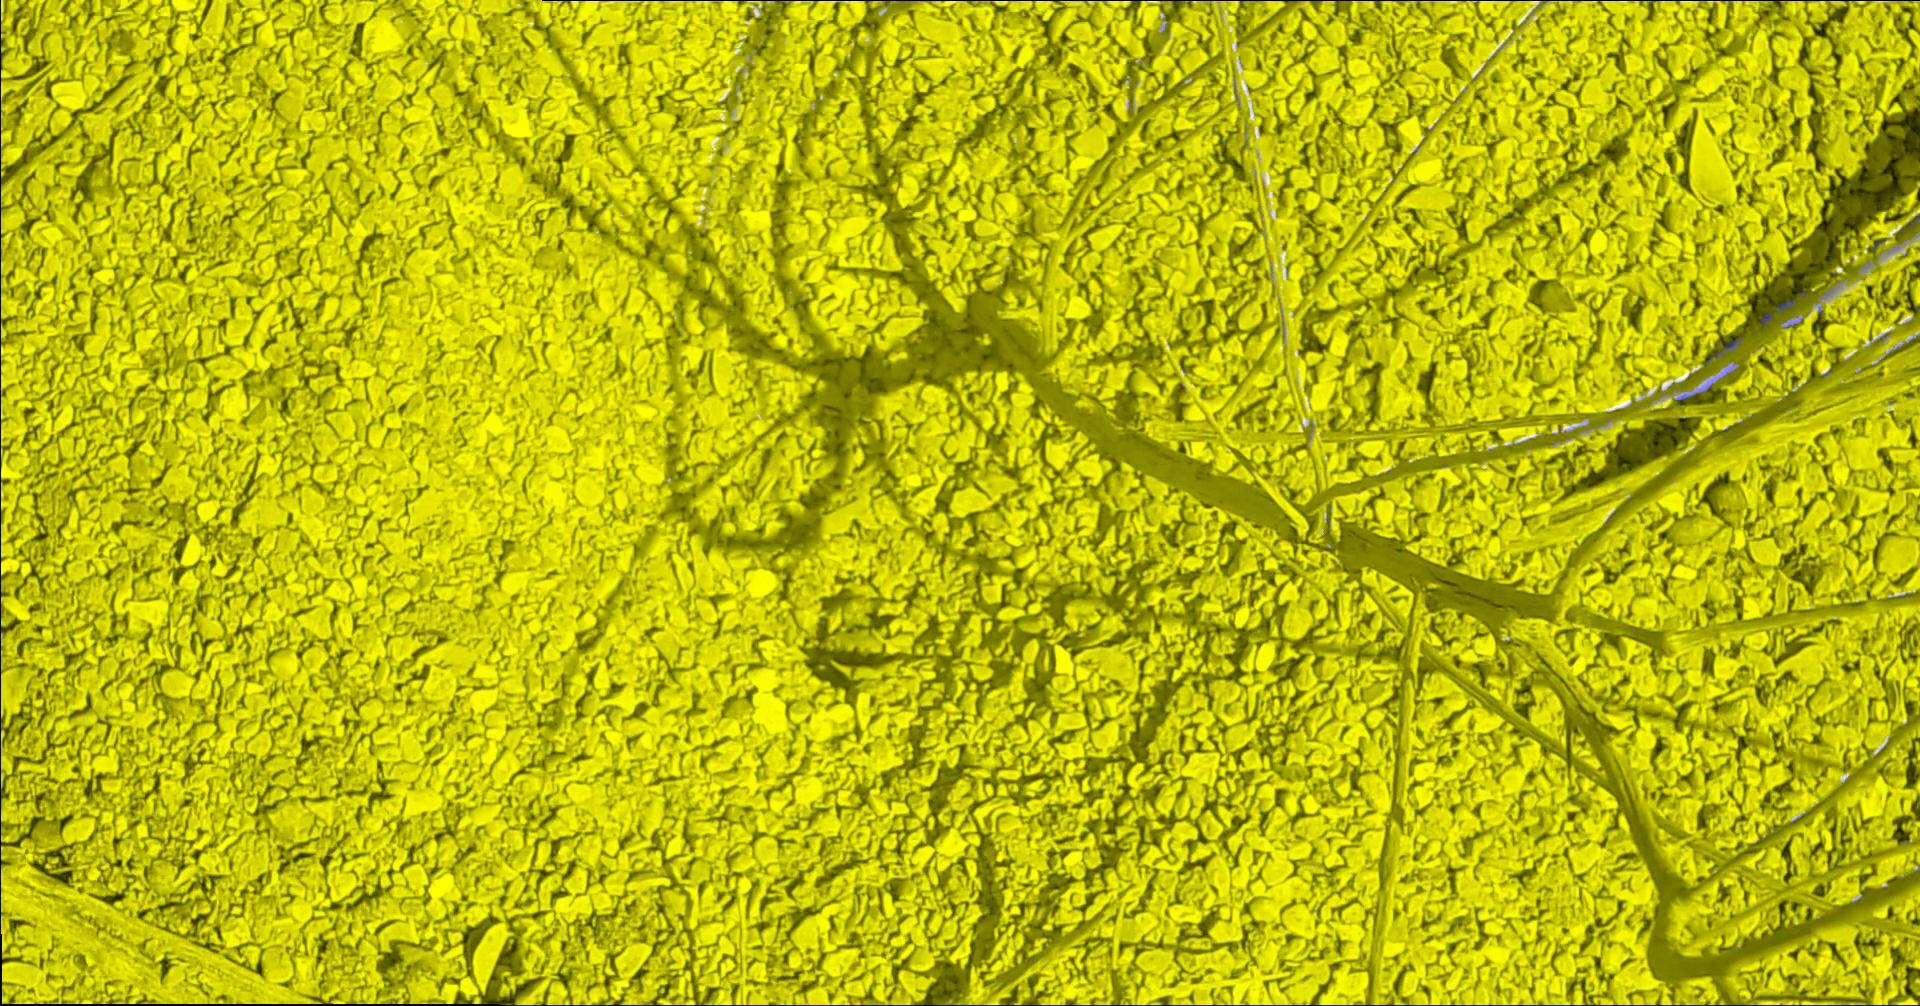ant: (1775, 298, 1796, 312)
